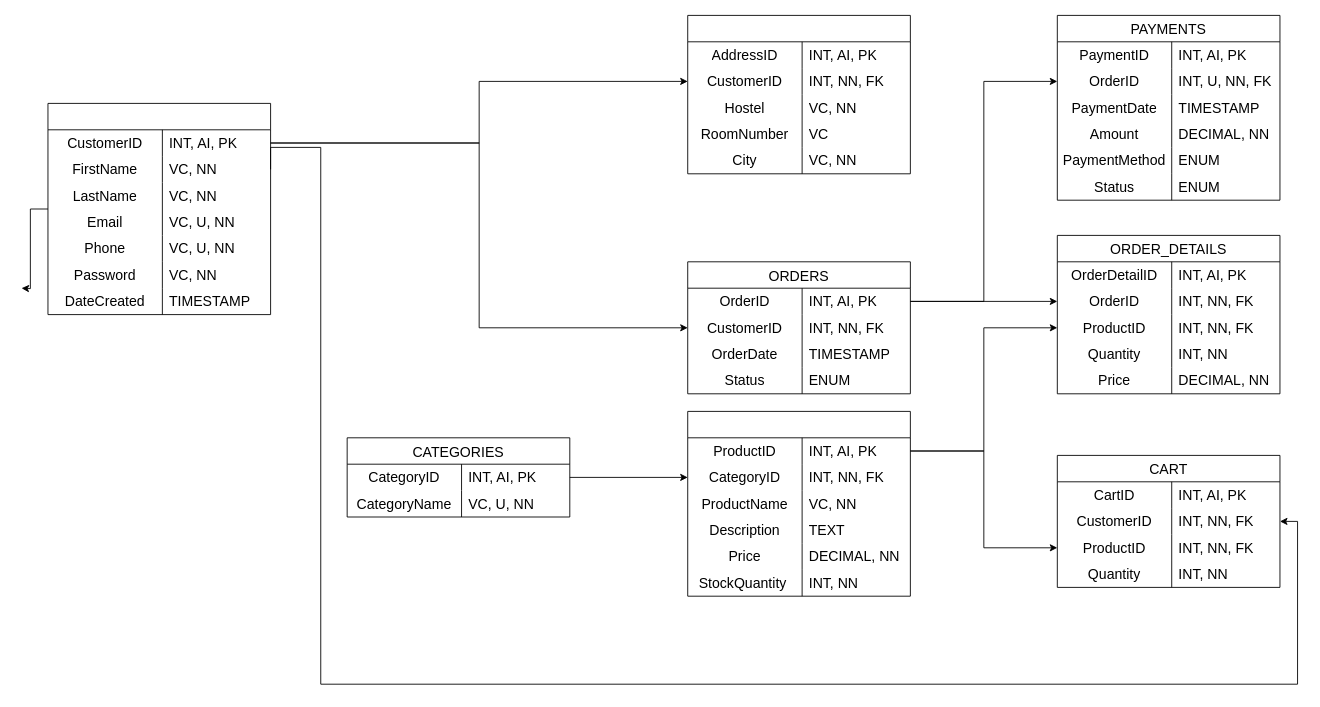
This 1320x707 diagram has some shape labels left out. Here are the shapes that lost their labels. From the top down, the box of each, then its label:
(687, 15, 910, 174): ADDRESSES
(47, 103, 271, 315): CUSTOMERS(USERS)
(687, 411, 910, 596): PRODUCTS
